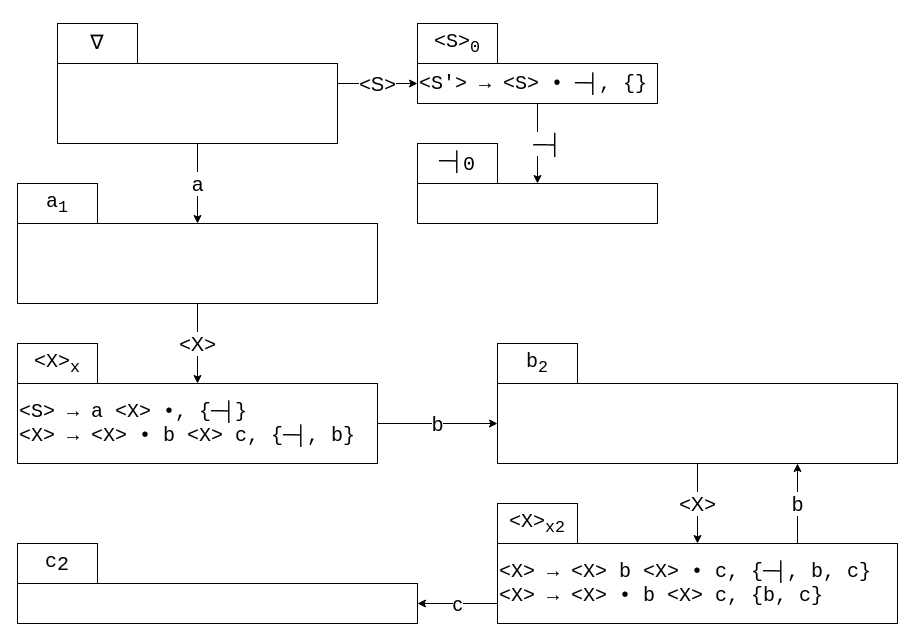
This 915x644 diagram has some shape labels left out. The shapes that lost their labels are listed below. From the top down, each one's box as (x1, y1, x2, y2) in pixels, then its label:
(56, 62, 338, 144): <S'> → • <S> ─┤, {} <S> → • a <X>, { ─┤ }
(416, 182, 658, 224): <S'> → <S> ─┤ •, {}
(16, 222, 378, 304): <S> → a • <X>, {─┤} <X> → • <X> b <X> c, {─┤, b} <X> → •, {─┤, b}
(496, 382, 898, 464): <X> → <X> b • <X> c, {─┤, b, c} <X> → • <X> b <X> c, {b, c} <X> → •, {b, c}
(16, 582, 418, 624): <X> → <X> b <X> c •, {─┤, b, c}
